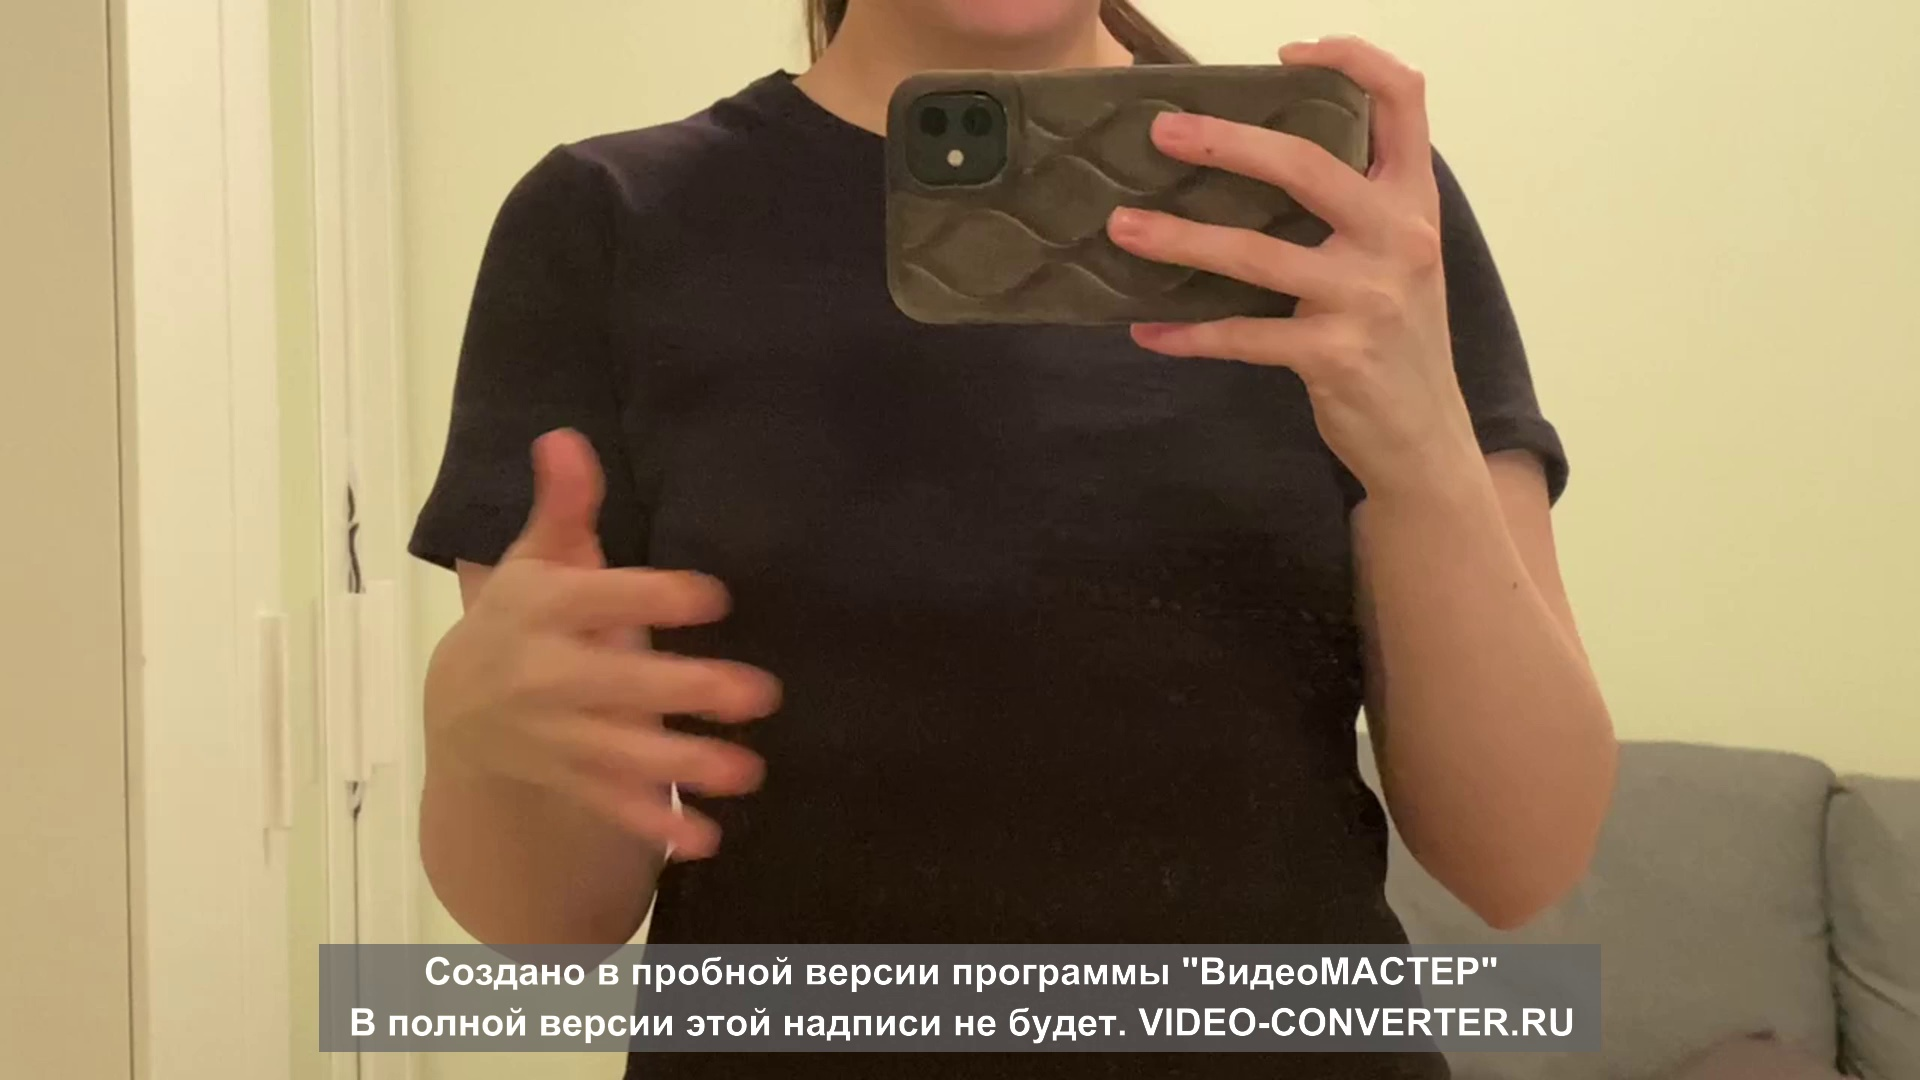Кисть: (421, 425, 779, 855)
